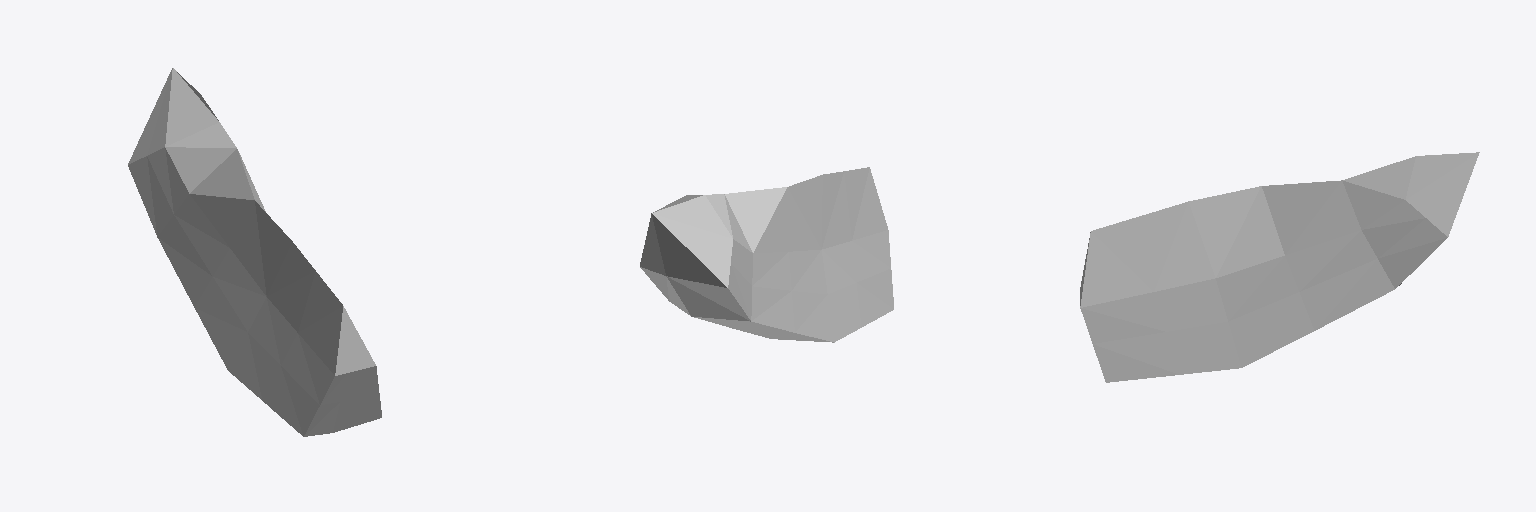
File: Female_Skeletal_Pubis.obj
3 views of the same model, side by side, from view 1: azimuth 30°, elevation 25°; view 2: azimuth 150°, elevation 25°; view 3: azimuth 270°, elevation 25° (orthographic).
Visible parts, largest first — view 1: Female_Skeletal_Pubis; view 2: Female_Skeletal_Pubis; view 3: Female_Skeletal_Pubis.
Part boxes in pixels (bbox=[...]): Female_Skeletal_Pubis: bbox=[128, 68, 381, 436]; Female_Skeletal_Pubis: bbox=[640, 167, 893, 342]; Female_Skeletal_Pubis: bbox=[1080, 152, 1479, 382].
Size of the model in its own units: 0.1514 by 0.3425 by 0.5544.